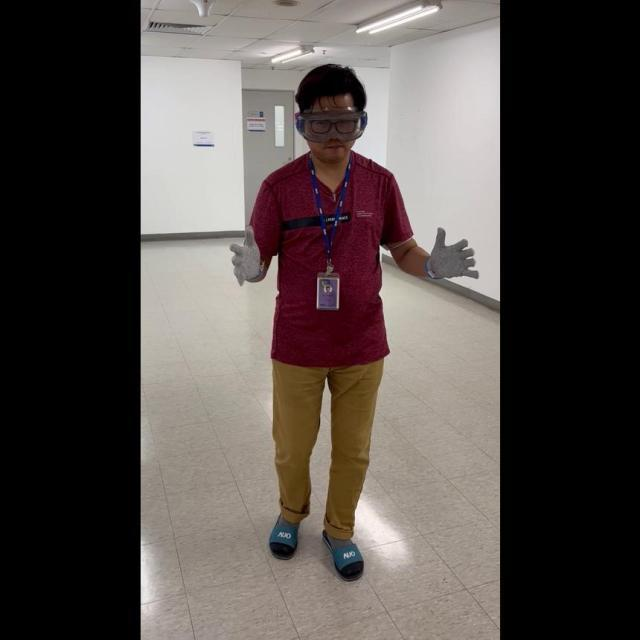gloved_hand: (422, 224, 477, 282), (228, 223, 266, 286)
